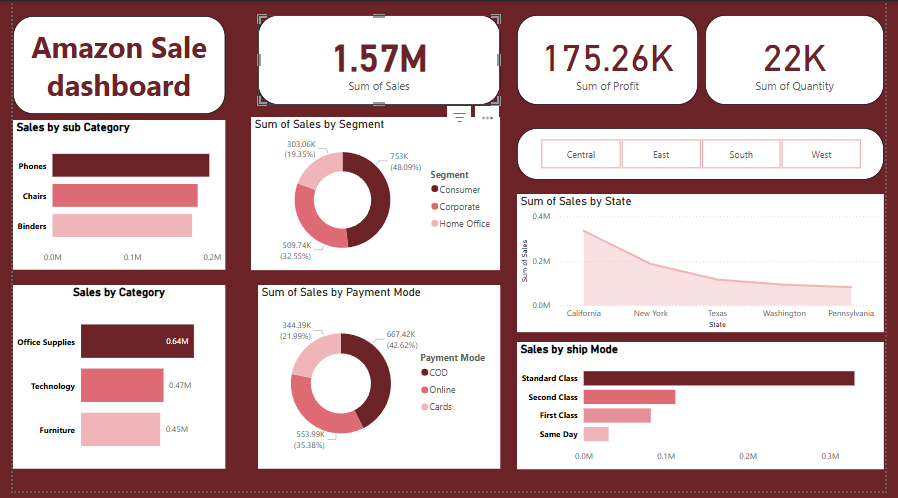

The page's visual inventory and layout, read from the dashboard file:
{"tool":"powerbi","page":{"name":"Page 1","canvas":[1280,720],"ordinal":0},"visuals":[{"type":"clusteredBarChart","title":" Sales by Category","fields":{"Category":["SuperStore_Sales_Dataset.Category"],"Y":["Sum(SuperStore_Sales_Dataset.Sales)"]},"box":[0,417.3,311.5,270.4],"z":0},{"type":"clusteredBarChart","title":" Sales by sub Category","fields":{"Category":["SuperStore_Sales_Dataset.Sub-Category"],"Y":["Sum(SuperStore_Sales_Dataset.Sales)"]},"box":[0,174.9,311.5,220.4],"z":1000},{"type":"clusteredBarChart","title":" Sales by ship Mode","fields":{"Category":["SuperStore_Sales_Dataset.Ship Mode"],"Y":["Sum(SuperStore_Sales_Dataset.Sales)"]},"box":[740.6,501.1,539.3,186.6],"z":2000},{"type":"stackedAreaChart","fields":{"Category":["SuperStore_Sales_Dataset.State"],"Y":["Sum(SuperStore_Sales_Dataset.Sales)"]},"box":[740.6,283.6,539.3,202.8],"z":3000},{"type":"donutChart","fields":{"Category":["SuperStore_Sales_Dataset.Segment"],"Y":["Sum(SuperStore_Sales_Dataset.Sales)"]},"box":[349.7,170.4,365.9,224.8],"z":4000},{"type":"donutChart","fields":{"Category":["SuperStore_Sales_Dataset.Payment Mode"],"Y":["Sum(SuperStore_Sales_Dataset.Sales)"]},"box":[360,417.3,355.6,270.4],"z":5000},{"type":"slicer","fields":{"Values":["SuperStore_Sales_Dataset.Region"]},"box":[740.6,186.6,539.3,76.4],"z":6000},{"type":"textbox","box":[0,22,311.5,144],"z":7000},{"type":"card","fields":{"Values":["Sum(SuperStore_Sales_Dataset.Sales)"]},"box":[360,20.6,355.6,132.2],"z":8000},{"type":"card","fields":{"Values":["Sum(SuperStore_Sales_Dataset.Quantity)"]},"box":[1016.8,20.6,263,132.2],"z":9000},{"type":"card","fields":{"Values":["Sum(SuperStore_Sales_Dataset.Profit)"]},"box":[740.6,20.6,266,132.2],"z":10000}]}

Visuals, with their boxes in screenshot pixels (x1, y1, x2, y2), scaled from the page's 1280x720 canvas onto the 898x498 screenshot:
" Sales by Category" clusteredBarChart: 0, 289, 219, 476
" Sales by sub Category" clusteredBarChart: 0, 121, 219, 273
" Sales by ship Mode" clusteredBarChart: 520, 347, 897, 476
stackedAreaChart - SuperStore_Sales_Dataset.State x Sum(SuperStore_Sales_Dataset.Sales): 520, 196, 897, 336
donutChart - SuperStore_Sales_Dataset.Segment x Sum(SuperStore_Sales_Dataset.Sales): 245, 118, 502, 273
donutChart - SuperStore_Sales_Dataset.Payment Mode x Sum(SuperStore_Sales_Dataset.Sales): 253, 289, 502, 476
slicer - SuperStore_Sales_Dataset.Region: 520, 129, 897, 182
textbox: 0, 15, 219, 115
card - Sum(SuperStore_Sales_Dataset.Sales): 253, 14, 502, 106
card - Sum(SuperStore_Sales_Dataset.Quantity): 713, 14, 897, 106
card - Sum(SuperStore_Sales_Dataset.Profit): 520, 14, 706, 106
